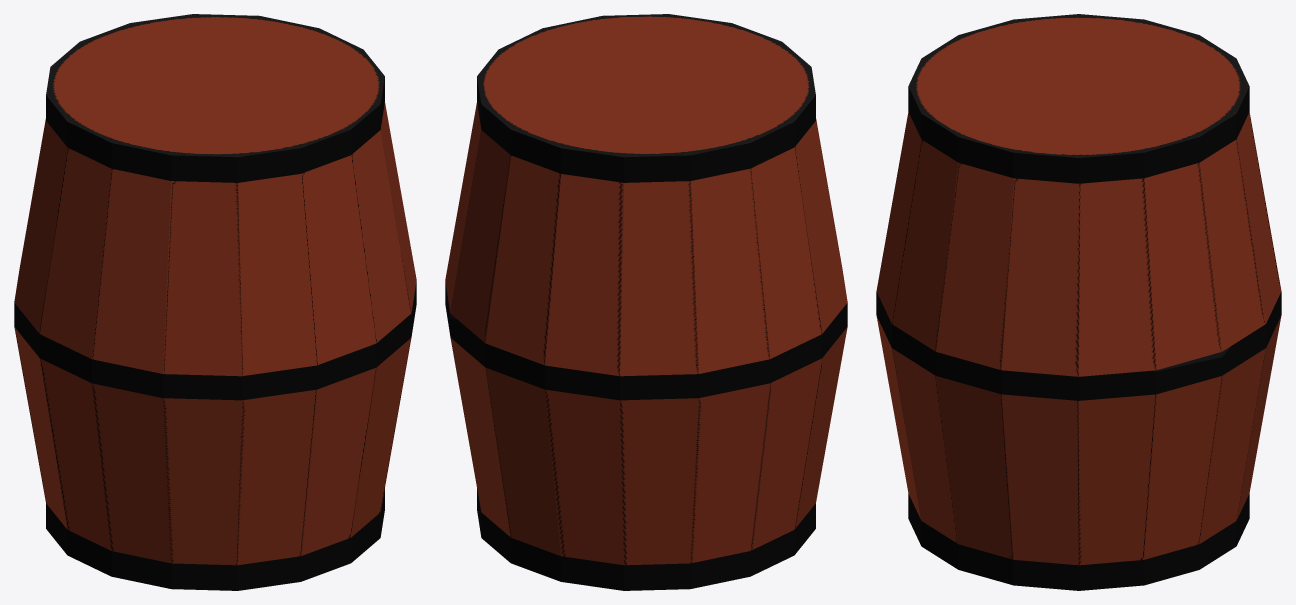
File: taru.fbx
The picture shows the model from 3 angles, left to right: view 1: azimuth 30°, elevation 25°; view 2: azimuth 150°, elevation 25°; view 3: azimuth 270°, elevation 25°; orthographic projection.
Parts seen in each view (by area): view 1: Cylinder; view 2: Cylinder; view 3: Cylinder.
Part boxes in pixels (x1,y1,x2,y2): Cylinder: [14, 14, 416, 590]; Cylinder: [445, 14, 847, 590]; Cylinder: [876, 14, 1281, 590].
Size of the model in its own units: 293 by 345 by 293.
